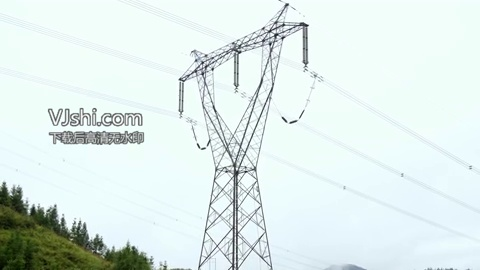tower_body: (165, 1, 315, 270)
tower_foot: (199, 213, 275, 270)
tower_head: (169, 1, 310, 174)
